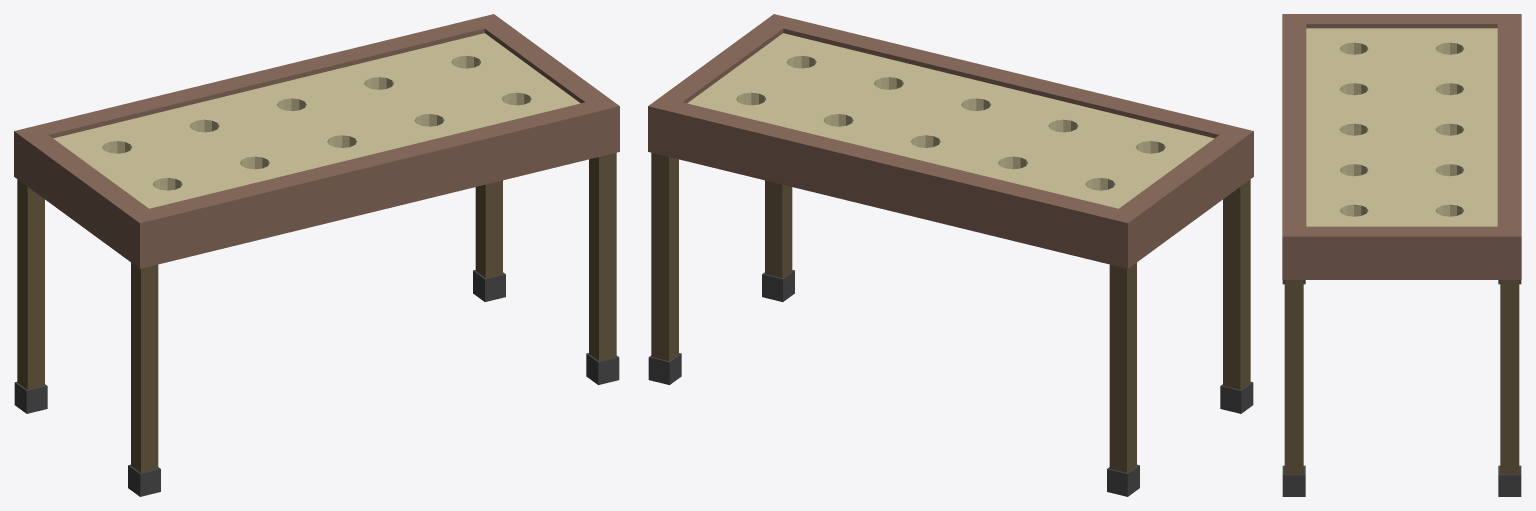
The model's file is Test Tube Holder.fbx.
3 renders of one model, left to right at view 1: azimuth 30°, elevation 25°; view 2: azimuth 150°, elevation 25°; view 3: azimuth 270°, elevation 25°, orthographic. The views are drawn at different scales.
Parts seen in each view (by area): view 1: Test Tube Holder; view 2: Test Tube Holder; view 3: Test Tube Holder.
Part boxes in pixels (left/top/right/bottom): Test Tube Holder: left=14, top=14, right=619, bottom=496; Test Tube Holder: left=648, top=14, right=1253, bottom=496; Test Tube Holder: left=1282, top=14, right=1521, bottom=496.
Bounding box in the file's own units: 2.2 × 1.2 × 1.
